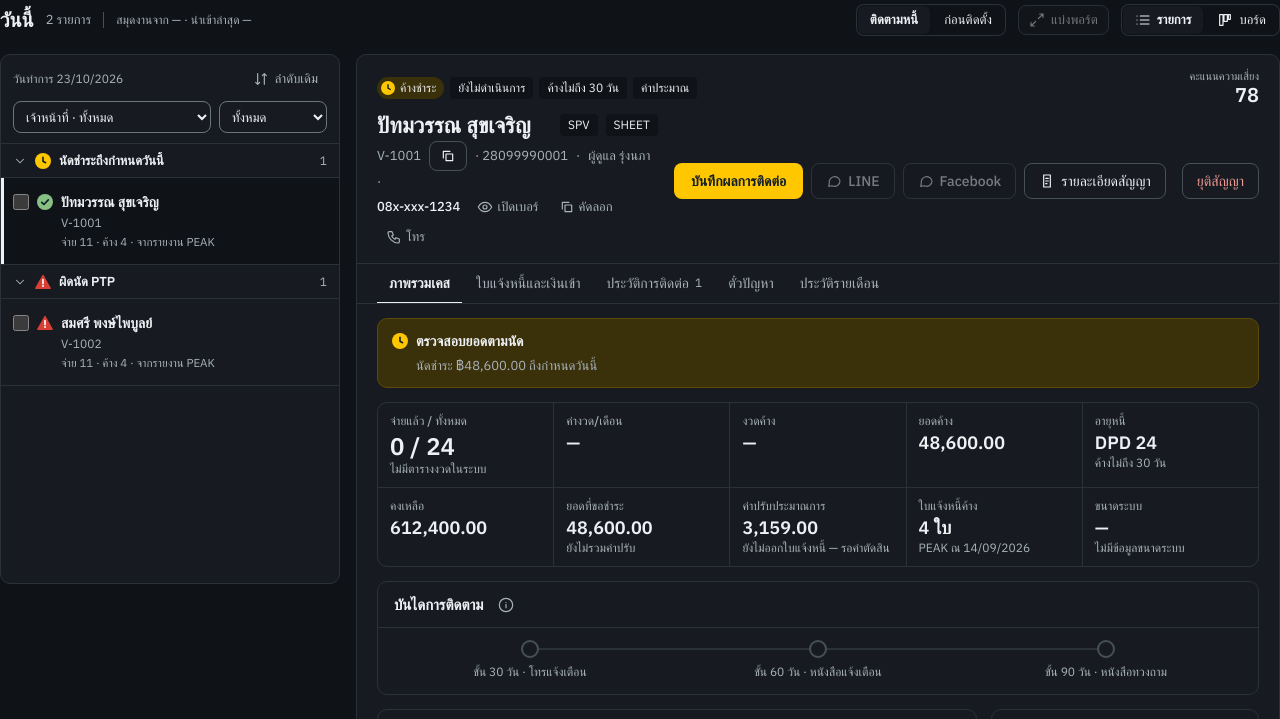
Test: Today › resets selection when the workstream changes
The image size is (1280, 719).
What coordinates should you click on to do the following:
click the checkbox named "เลือก ปัทมวรรณ สุขเจริญ"
I would click on:
 (21, 202)
Its box is [13, 194, 29, 210].
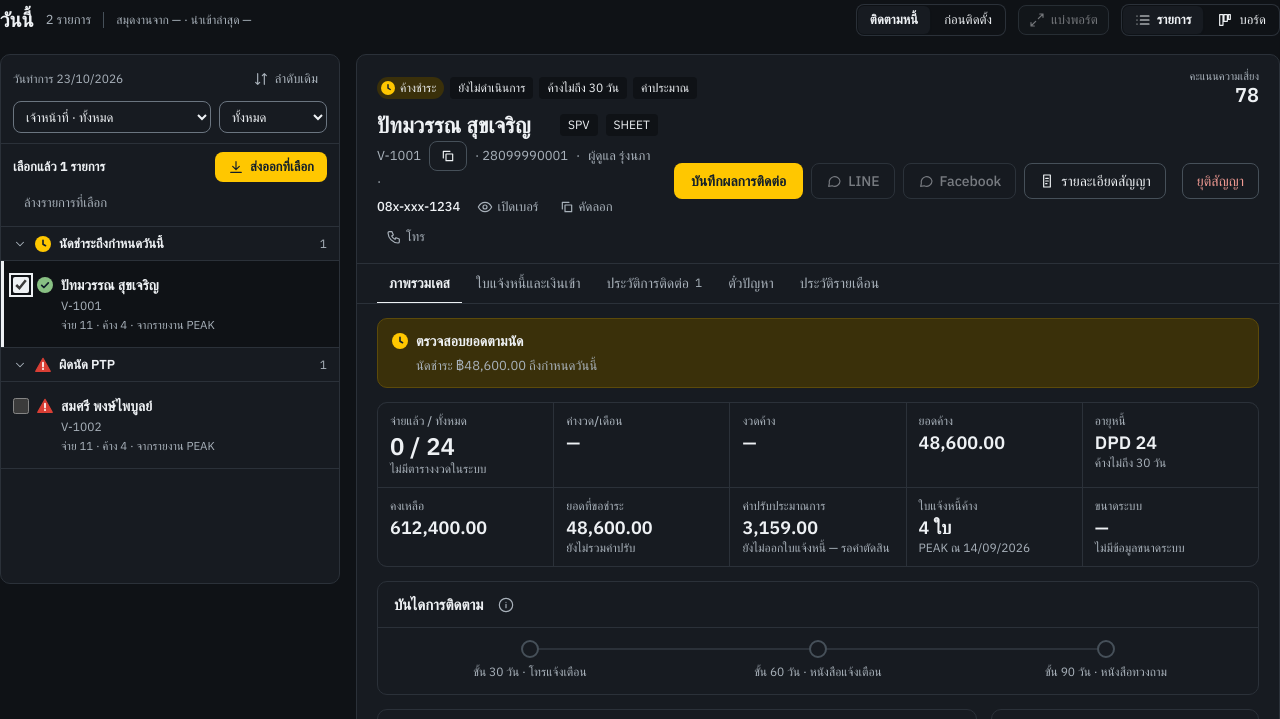
Result: the text "เลือกแล้ว 1 รายการ" is shown at [13, 158, 105, 175]
What coordinates should you click on to do the following:
click the radio button labelled "ก่อนติดตั้ง"
I would click on:
 (968, 20)
Its box is [932, 6, 1004, 34].
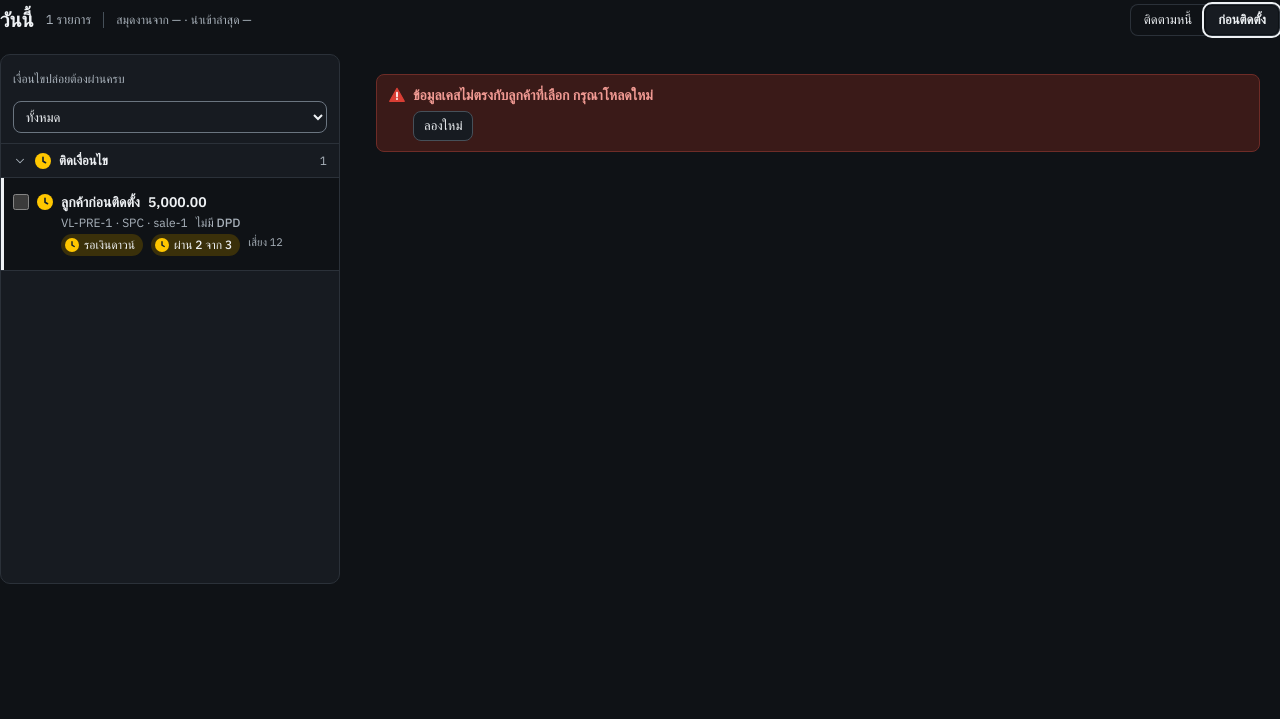
Result: the text "ลูกค้าก่อนติดตั้ง" is shown at [61, 192, 140, 212]
Result: the text "เลือกแล้ว 1 รายการ" is gone
